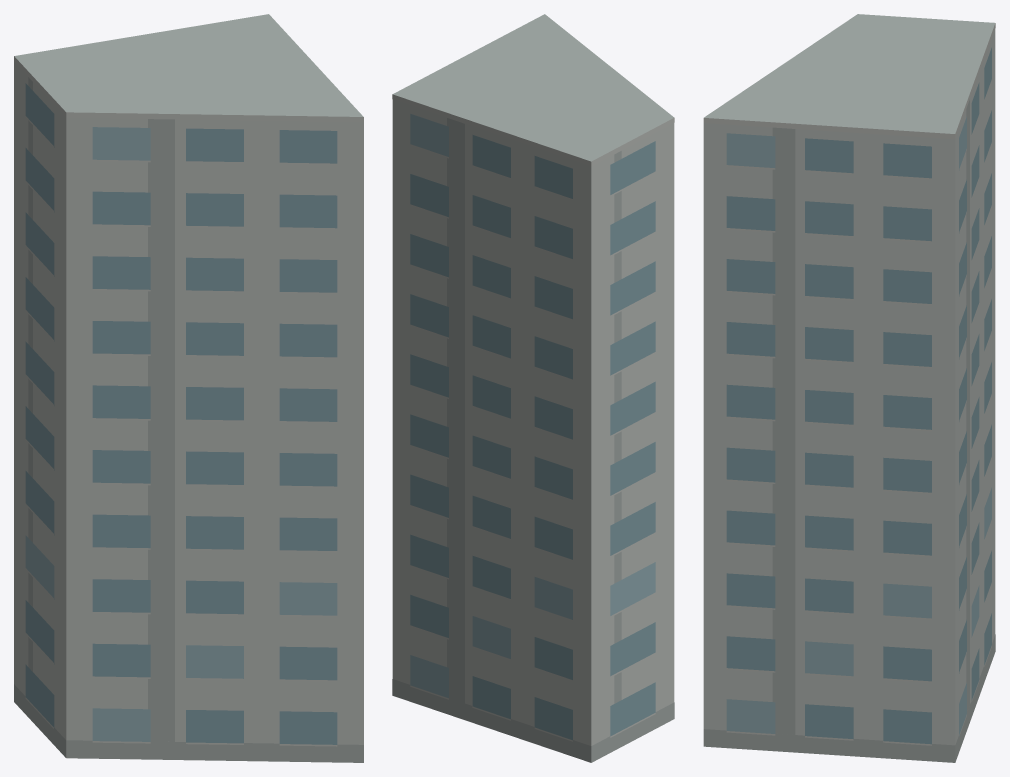
File: residential-15f7c7e5-28ed-4e71-8cba-0c796ddeae3b.glb
The picture shows the model from 3 angles, left to right: view 1: azimuth 30°, elevation 25°; view 2: azimuth 150°, elevation 25°; view 3: azimuth 270°, elevation 25°; orthographic projection. The views are drawn at different scales.
Visible parts, largest first — view 1: residential-15f7c7e5-28ed-4e71-8cba-0c796ddeae3b.tmp; view 2: residential-15f7c7e5-28ed-4e71-8cba-0c796ddeae3b.tmp; view 3: residential-15f7c7e5-28ed-4e71-8cba-0c796ddeae3b.tmp.
Boxes of the visible parts, left/top/right/bottom form: residential-15f7c7e5-28ed-4e71-8cba-0c796ddeae3b.tmp: left=14, top=14, right=363, bottom=762; residential-15f7c7e5-28ed-4e71-8cba-0c796ddeae3b.tmp: left=392, top=14, right=674, bottom=762; residential-15f7c7e5-28ed-4e71-8cba-0c796ddeae3b.tmp: left=703, top=14, right=995, bottom=762.
Bounding box in the file's own units: 11.89 × 29 × 12.21.
